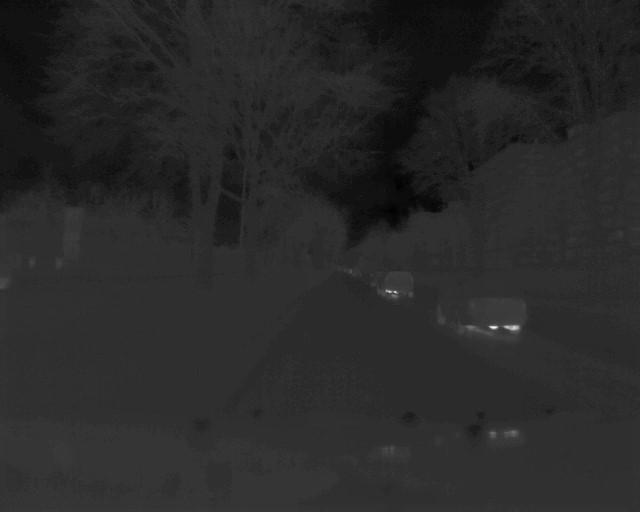car: (436, 277, 533, 334), (374, 266, 418, 300)
